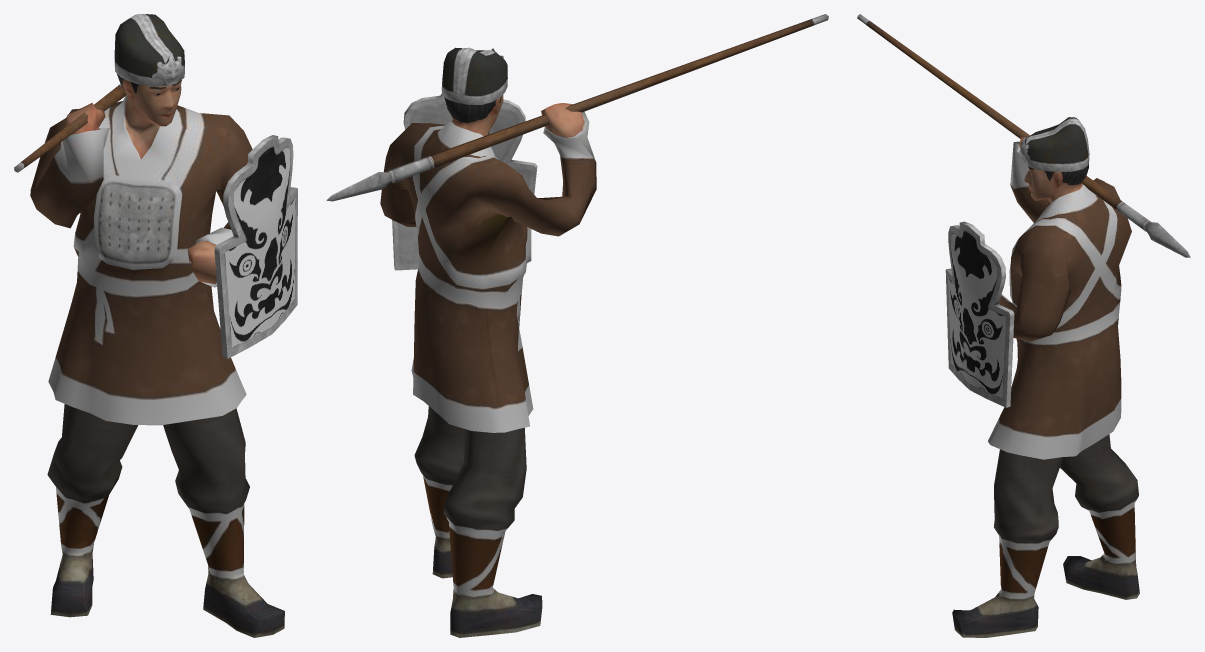
The model's file is 28-wuzujavelineer.glb.
The picture shows the model from 3 angles, left to right: view 1: azimuth 30°, elevation 25°; view 2: azimuth 150°, elevation 25°; view 3: azimuth 270°, elevation 25°; orthographic projection. The views are drawn at different scales.
Size of the model in its own units: 1.4 by 2.12 by 1.31.
4 materials, 4 textured.
